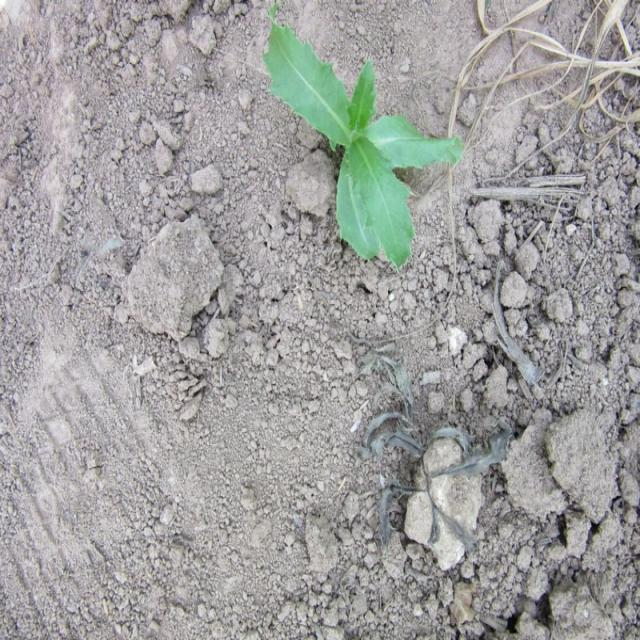field_thistle: (246, 17, 452, 272)
